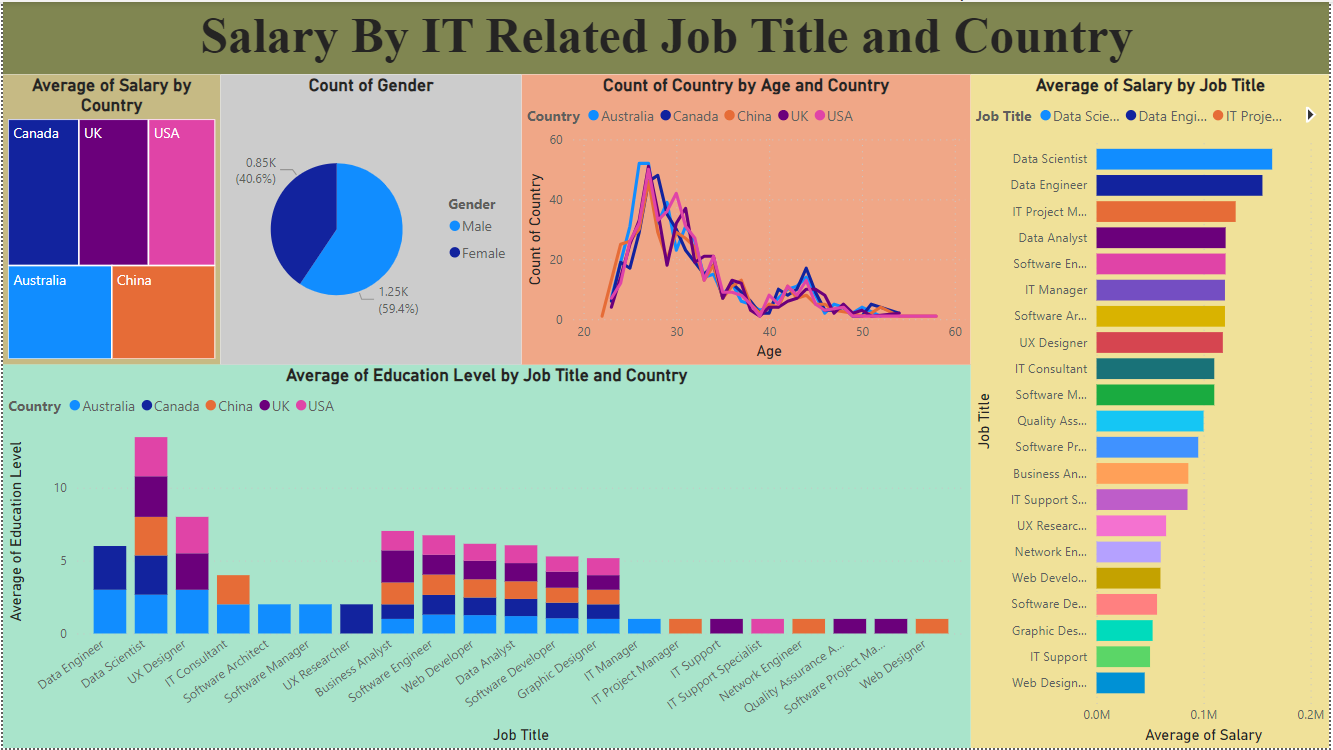

The page's visual inventory and layout, read from the dashboard file:
{"tool":"powerbi","page":{"name":"Page 1","canvas":[1280,720],"ordinal":0},"visuals":[{"type":"treemap","fields":{"Group":["Salary.Country"],"Values":["Avg(Salary.Salary)"]},"box":[0,69.9,209.8,279.8],"z":0},{"type":"textbox","box":[0,0,1280.6,69.9],"z":1000},{"type":"barChart","title":"Average of Salary by Job Title","fields":{"Category":["Salary.Job Title"],"Y":["Avg(Salary.Salary)"],"Series":["Salary.Job Title"]},"box":[933.5,69.9,347.3,650.1],"z":2000},{"type":"columnChart","fields":{"Y":["Avg(Salary.Education Level)"],"Category":["Salary.Job Title"],"Series":["Salary.Country"]},"box":[0,349.7,933.5,370.3],"z":3000},{"type":"pieChart","title":"Count of Gender","fields":{"Y":["CountNonNull(Salary.Gender)"],"Category":["Salary.Gender"]},"box":[209.8,69.9,290.7,279.8],"z":4000},{"type":"lineChart","fields":{"Category":["Salary.Age"],"Y":["CountNonNull(Salary.Country)"],"Series":["Salary.Country"]},"box":[500.5,69.9,433,279.8],"z":5000}]}

Visuals, with their boxes in screenshot pixels (x1, y1, x2, y2), scaled from the page's 1280x720 canvas onto the 1333x750 screenshot:
treemap - Salary.Country x Avg(Salary.Salary): bbox(0, 73, 218, 364)
textbox: bbox(0, 0, 1332, 73)
"Average of Salary by Job Title" barChart: bbox(972, 73, 1332, 749)
columnChart - Avg(Salary.Education Level) x Salary.Job Title: bbox(0, 364, 972, 749)
"Count of Gender" pieChart: bbox(218, 73, 521, 364)
lineChart - Salary.Age x CountNonNull(Salary.Country): bbox(521, 73, 972, 364)
